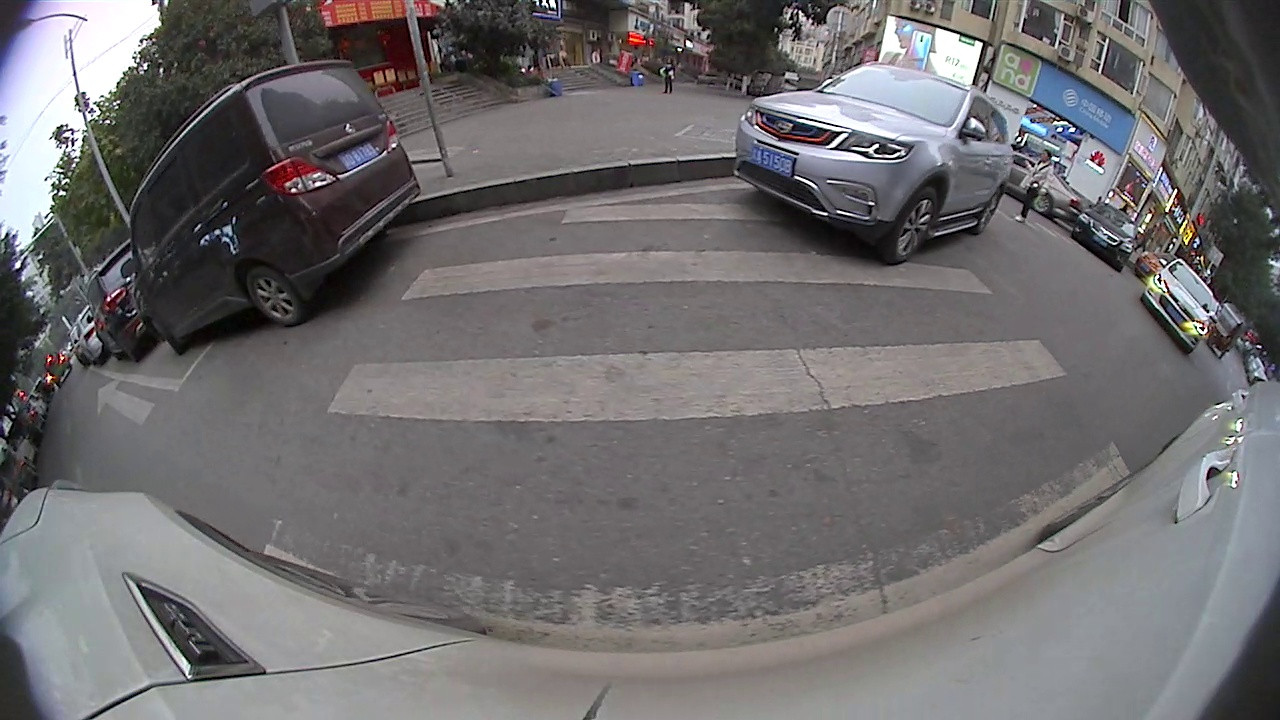car: (116, 54, 424, 356), (731, 59, 1016, 265), (86, 231, 154, 367), (1137, 254, 1223, 360), (1067, 201, 1141, 274)
front: (890, 186, 938, 259)
person: (1035, 145, 1055, 219)
rear: (238, 267, 309, 325), (981, 184, 1005, 236)
